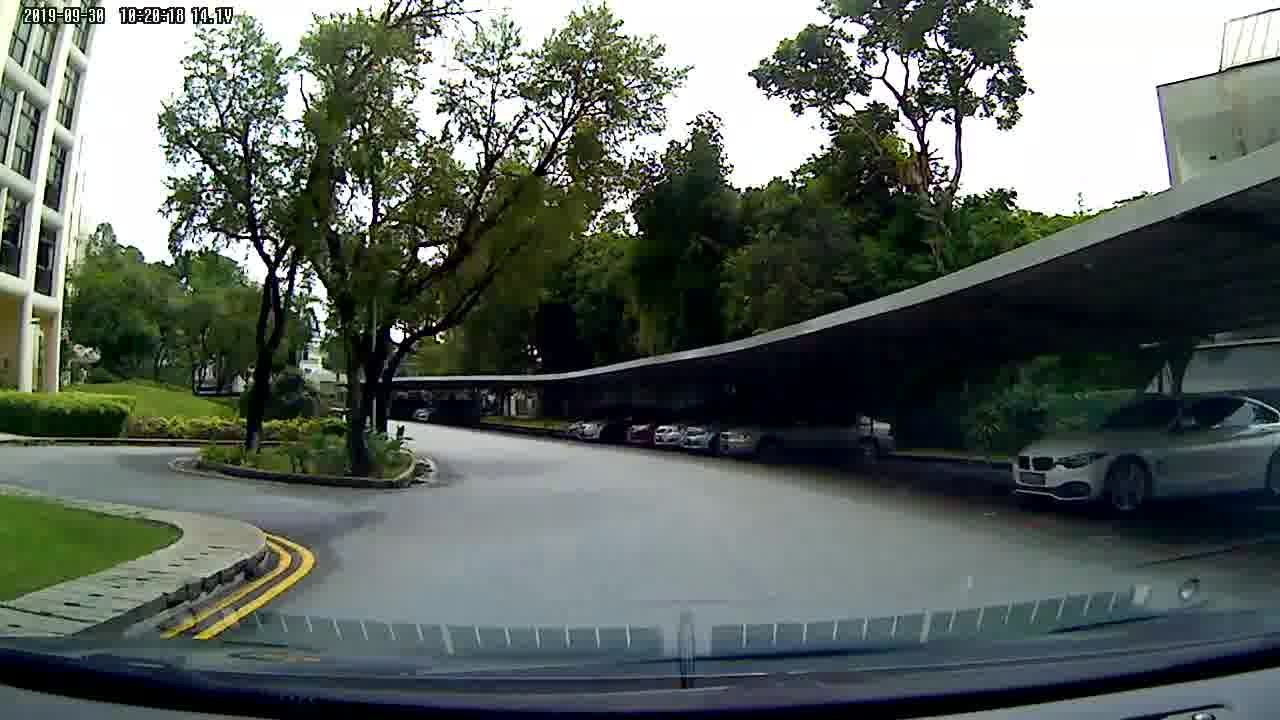car: (992, 387, 1280, 526), (559, 407, 895, 468)
